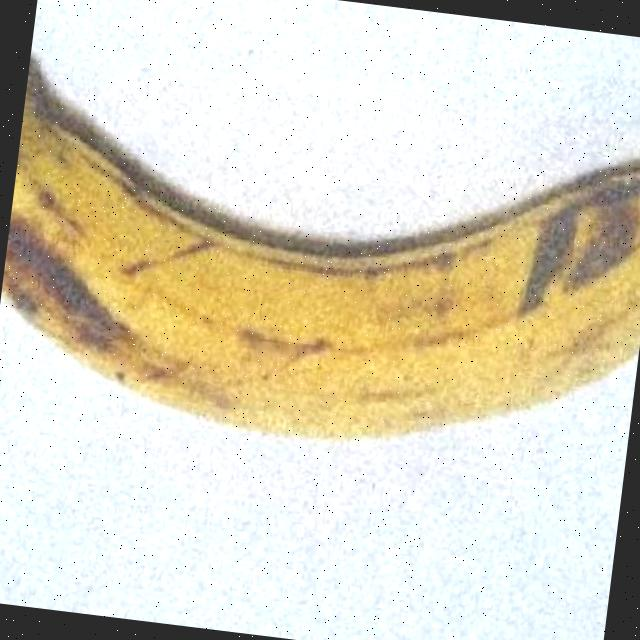Overripe: (0, 6, 640, 510)
